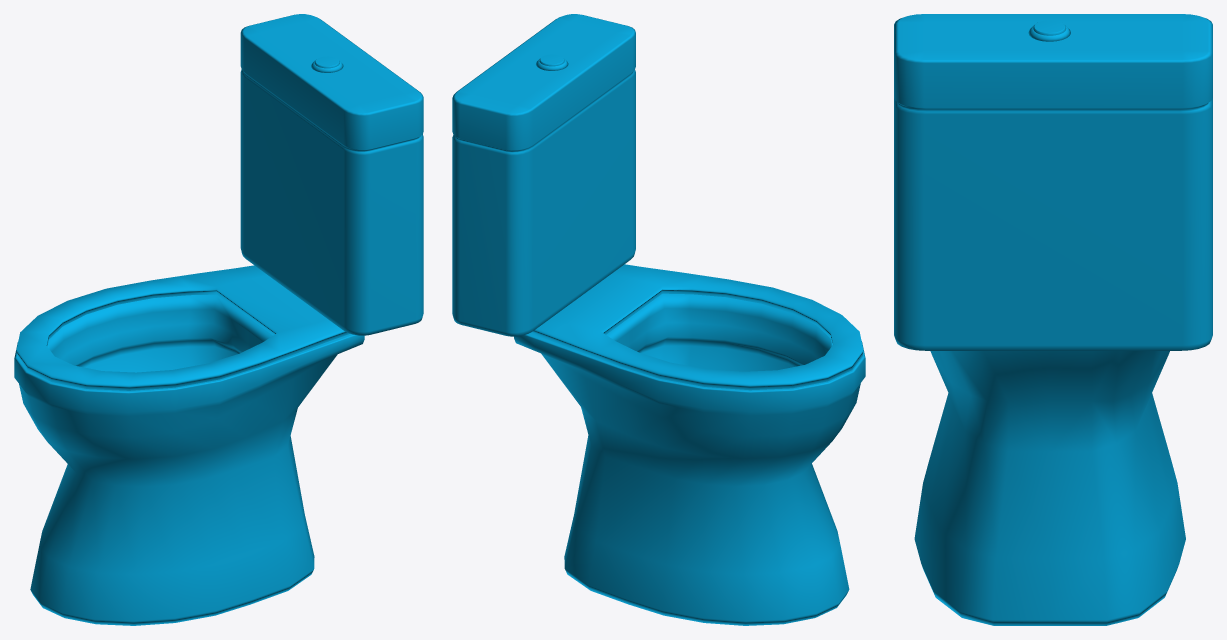
3 views of the same model, side by side, from view 1: azimuth 30°, elevation 25°; view 2: azimuth 150°, elevation 25°; view 3: azimuth 270°, elevation 25° (orthographic). The views are drawn at different scales.
Parts seen in each view (by area): view 1: Wc_02_Lod0; view 2: Wc_02_Lod0; view 3: Wc_02_Lod0.
Part boxes in pixels (x1,y1,x2,y2): Wc_02_Lod0: (14, 14, 423, 625); Wc_02_Lod0: (452, 14, 865, 625); Wc_02_Lod0: (894, 14, 1212, 625).
Size of the model in its own units: 62.51 by 82.37 by 38.14.
